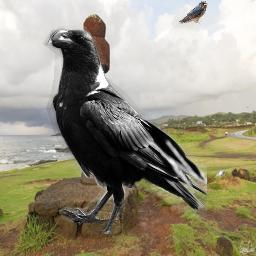Crow: (43, 25, 207, 234)
Swallow: (179, 1, 208, 25)
